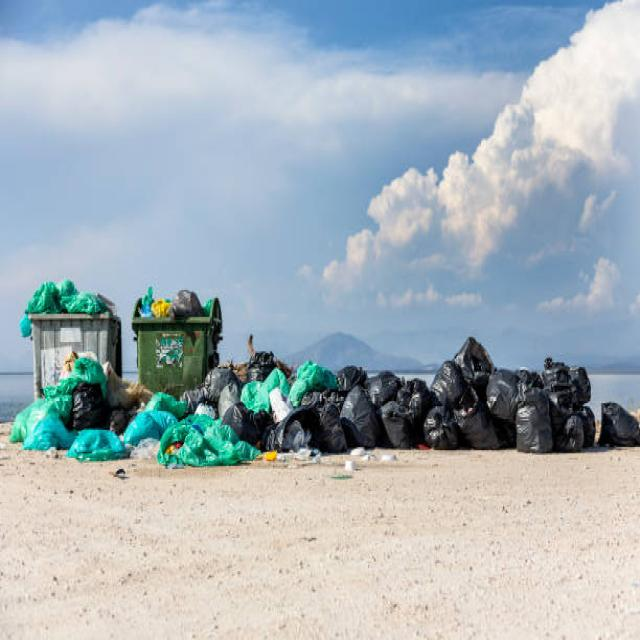trash: (21, 278, 623, 497)
